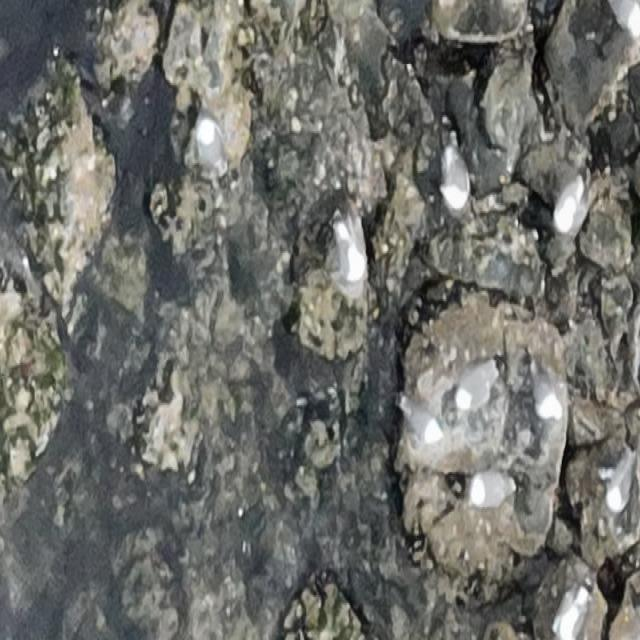umineko: (332, 228, 367, 284), (558, 578, 590, 638), (404, 400, 444, 444), (529, 370, 562, 422), (455, 365, 496, 406), (443, 147, 471, 207), (554, 174, 584, 230), (606, 454, 634, 512), (197, 119, 224, 174), (472, 479, 517, 506)
